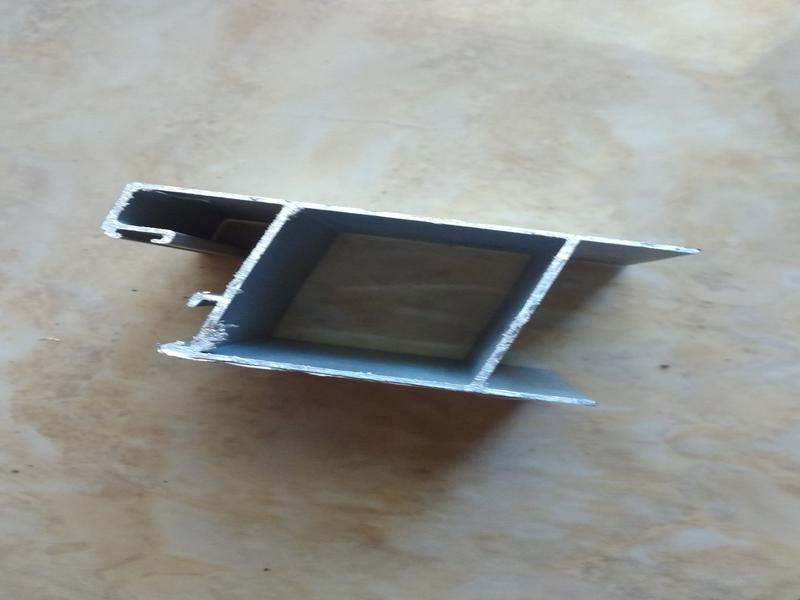Aluminium_2: (80, 132, 753, 468)
